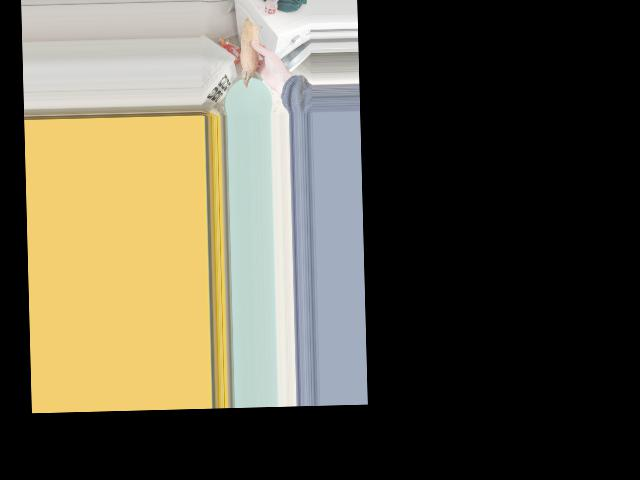sweet_potato: (240, 25, 265, 86)
